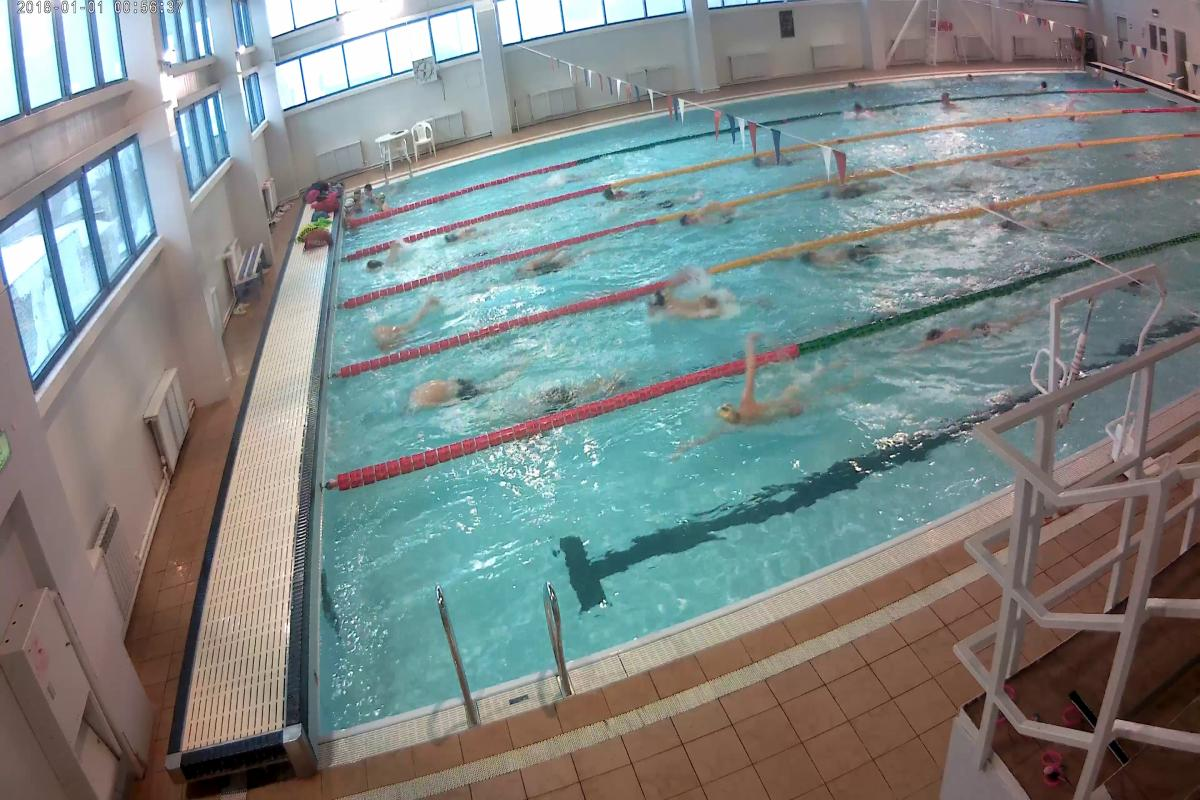swimmer: (698, 366, 852, 449), (902, 304, 1030, 361), (403, 367, 524, 423), (365, 297, 440, 357), (641, 278, 735, 319), (794, 240, 889, 274), (507, 246, 581, 288), (676, 201, 751, 236), (361, 236, 410, 278), (815, 176, 888, 204), (438, 222, 496, 248), (750, 150, 805, 176), (595, 181, 657, 203), (930, 89, 966, 118)
